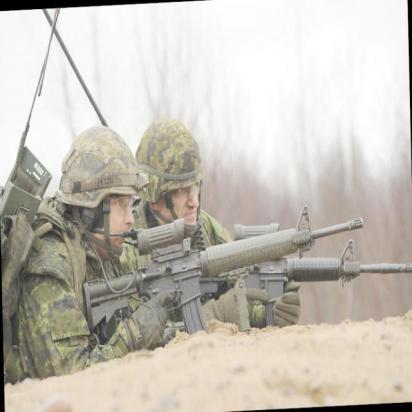Gun: (85, 219, 365, 349)
